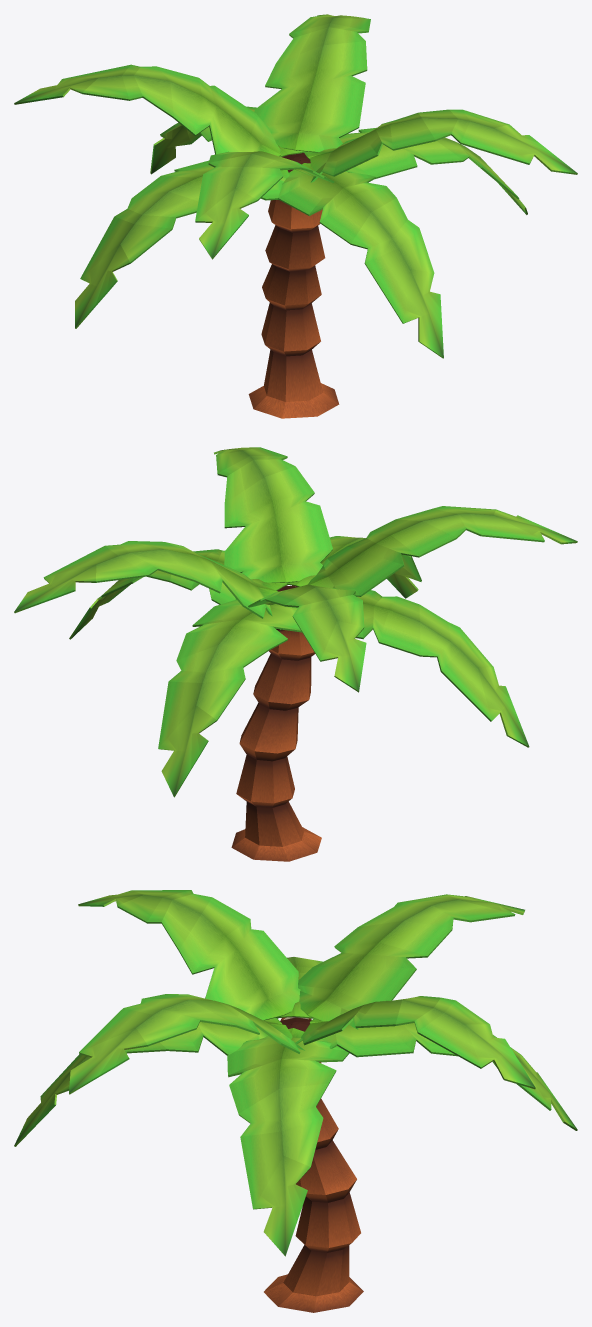
The model's file is Coqueiro.fbx.
The picture shows the model from 3 angles, top to bottom: view 1: azimuth 30°, elevation 25°; view 2: azimuth 150°, elevation 25°; view 3: azimuth 270°, elevation 25°; orthographic projection. The views are drawn at different scales.
Parts seen in each view (by area): view 1: Folhas, Tronco; view 2: Folhas, Tronco; view 3: Folhas, Tronco.
Part boxes in pixels (left/top/right/bottom): Folhas: left=14, top=14, right=577, bottom=358; Tronco: left=248, top=153, right=339, bottom=418; Folhas: left=14, top=447, right=577, bottom=797; Tronco: left=231, top=585, right=321, bottom=861; Folhas: left=14, top=890, right=577, bottom=1256; Tronco: left=264, top=1017, right=363, bottom=1312.
Bounding box in the file's own units: 137 × 88.67 × 137.
3 materials, 3 textured.
